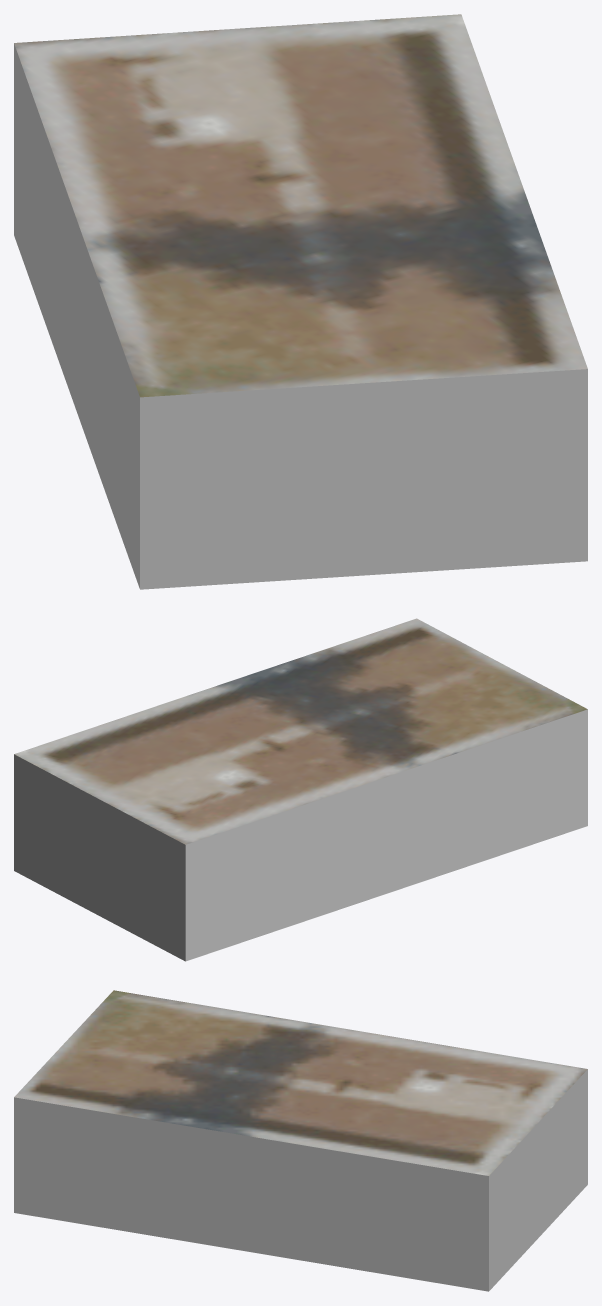
File: DEBW_001000oIEZl.gltf
The picture shows the model from 3 angles, top to bottom: view 1: azimuth 30°, elevation 25°; view 2: azimuth 150°, elevation 25°; view 3: azimuth 270°, elevation 25°; orthographic projection. The views are drawn at different scales.
Visible parts, largest first — view 1: Z_UP; view 2: Z_UP; view 3: Z_UP.
Part boxes in pixels (left/top/right/bottom): Z_UP: left=14, top=14, right=587, bottom=589; Z_UP: left=14, top=618, right=587, bottom=961; Z_UP: left=14, top=990, right=587, bottom=1291.
Size of the model in its own units: 20.69 by 6 by 27.01.
Materials: 2 (1 with a texture image).
